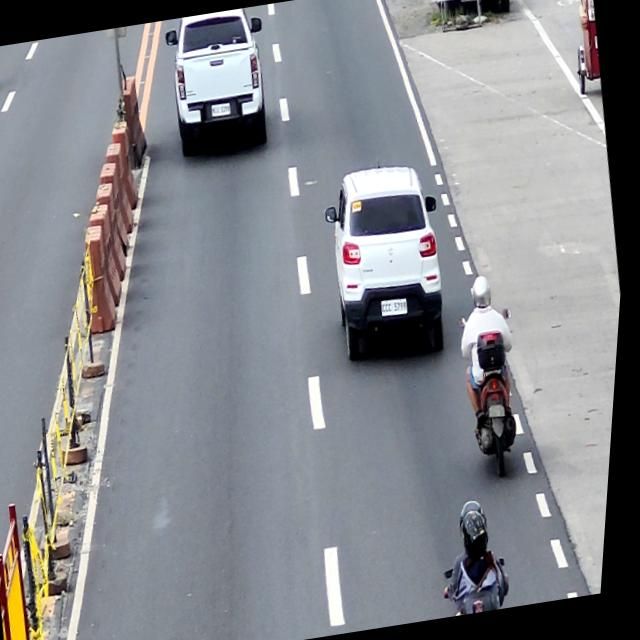Car: (314, 159, 465, 367), (157, 5, 283, 159)
License-Plate: (384, 296, 413, 318), (212, 101, 234, 118), (493, 404, 511, 418)
Motorcycle: (452, 306, 540, 480)
